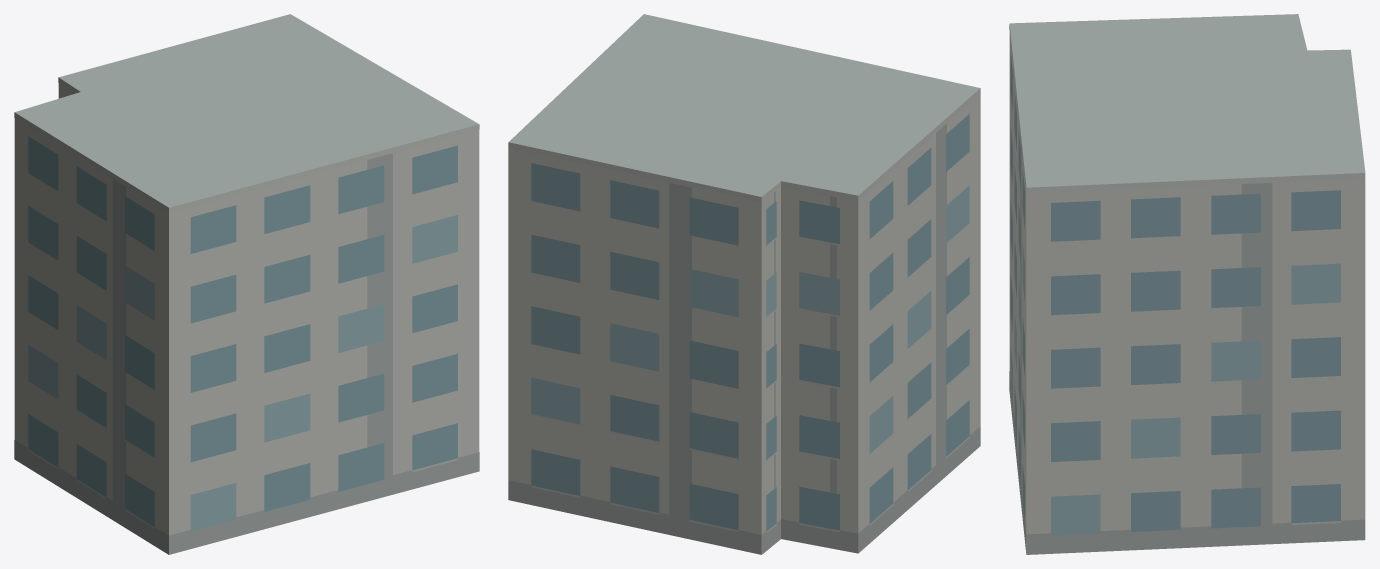
Rendered from survey-upis-32634489.glb.
3 renders of one model, left to right at view 1: azimuth 30°, elevation 25°; view 2: azimuth 150°, elevation 25°; view 3: azimuth 270°, elevation 25°, orthographic. The views are drawn at different scales.
Visible parts, largest first — view 1: survey-upis-32634489.tmp; view 2: survey-upis-32634489.tmp; view 3: survey-upis-32634489.tmp.
Part boxes in pixels (box(x1,y1,x2,y2)): survey-upis-32634489.tmp: box(14, 14, 479, 554); survey-upis-32634489.tmp: box(508, 14, 980, 554); survey-upis-32634489.tmp: box(1009, 14, 1365, 554).
Bounding box in the file's own units: 15.48 × 15.25 × 13.41.
